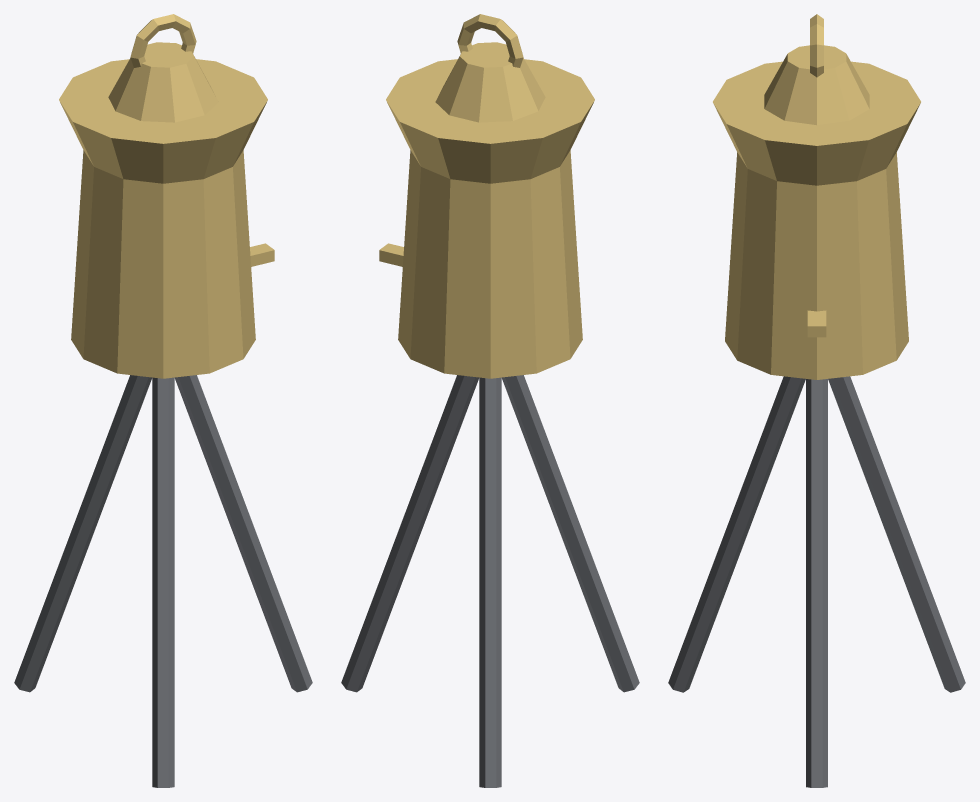
Rendered from steampunk-airship-dock-and-workshop-signal-lamp-1a96f759.glb.
3 renders of one model, left to right at view 1: azimuth 30°, elevation 25°; view 2: azimuth 150°, elevation 25°; view 3: azimuth 270°, elevation 25°, orthographic.
Parts seen in each view (by area): view 1: signal-lamp; view 2: signal-lamp; view 3: signal-lamp.
Part boxes in pixels (x1,y1,x2,y2): signal-lamp: (14,14,312,787); signal-lamp: (341,14,639,787); signal-lamp: (668,14,965,787).
Bounding box in the file's own units: 0.4447 × 1.26 × 0.4847.
